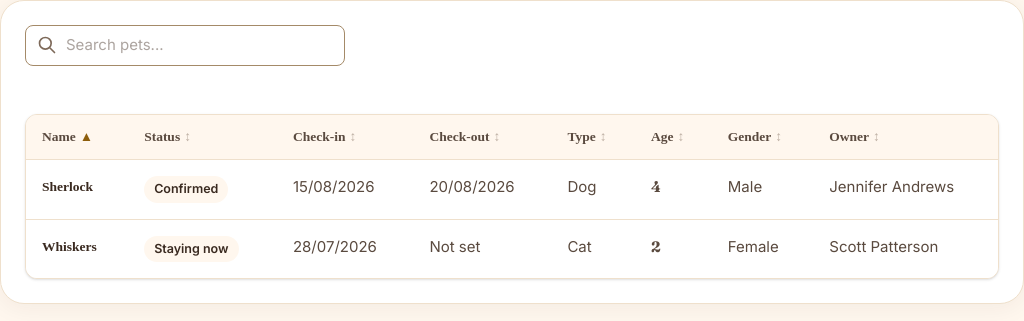
Test: PetListPage › filters the list by owner name as the user types in the search bar
This screenshot has width=1024, height=321.
Expected: the button "Sherlock" is shown, x1=42 y1=177 x2=93 y2=197
Type "Jennifer Andrews" into the field labelled "Search pets".
click(185, 45); type("Jennifer Andrews")  # box x1=25 y1=25 x2=345 y2=66
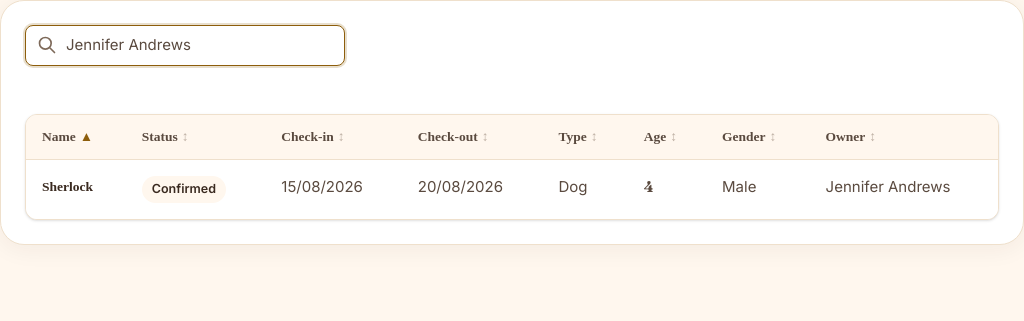
Expected: the button "Sherlock" is shown, x1=42 y1=177 x2=93 y2=197
Now the button "Whiskers" is gone
